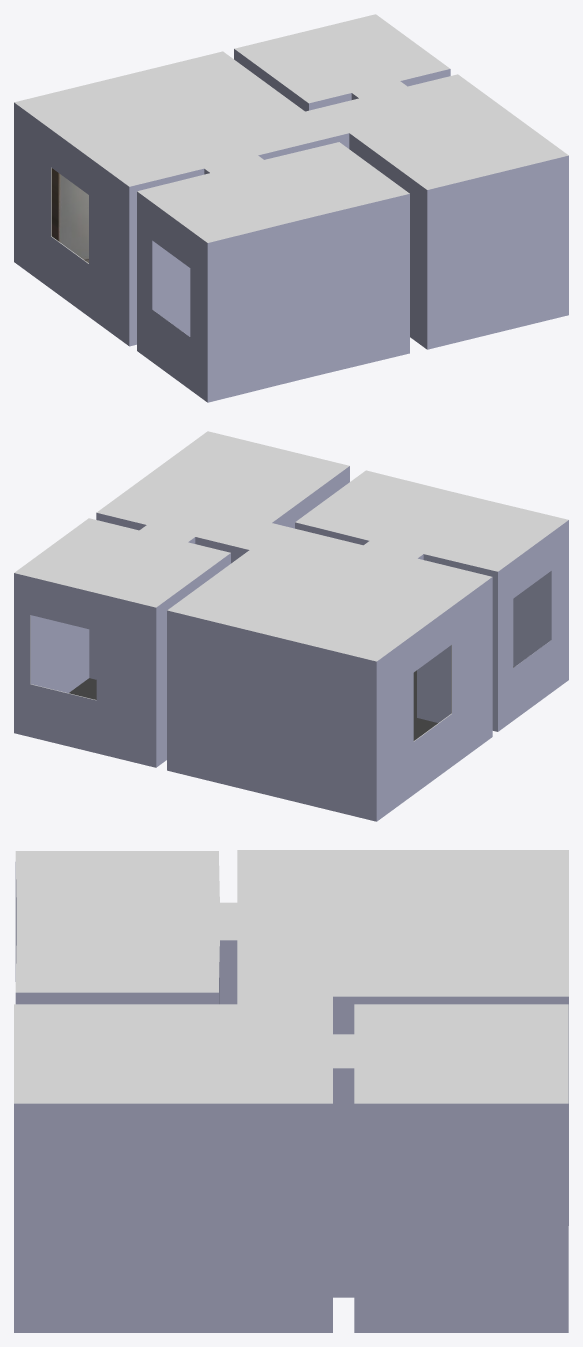
Rendered from kerrostaloasunto 1.fbx.
3 renders of one model, top to bottom at view 1: azimuth 30°, elevation 25°; view 2: azimuth 150°, elevation 25°; view 3: azimuth 270°, elevation 25°, orthographic. The views are drawn at different scales.
Parts seen in each view (by area): view 1: Plane, Cube; view 2: Plane; view 3: Plane.
Boxes of the visible parts, box(x1,y1,x2,y2) form: Plane: box(14, 14, 568, 402); Cube: box(51, 168, 88, 263); Plane: box(14, 431, 568, 821); Plane: box(14, 850, 568, 1332).
Size of the model in its own units: 1049 by 442 by 970.
